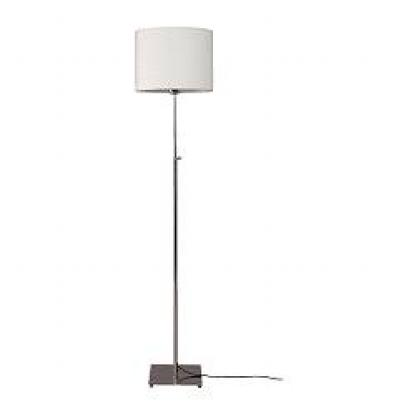Lamp: (110, 13, 228, 396)
